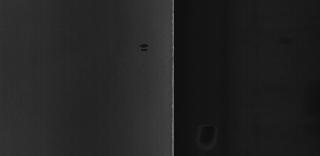oil spot: (133, 39, 157, 53)
